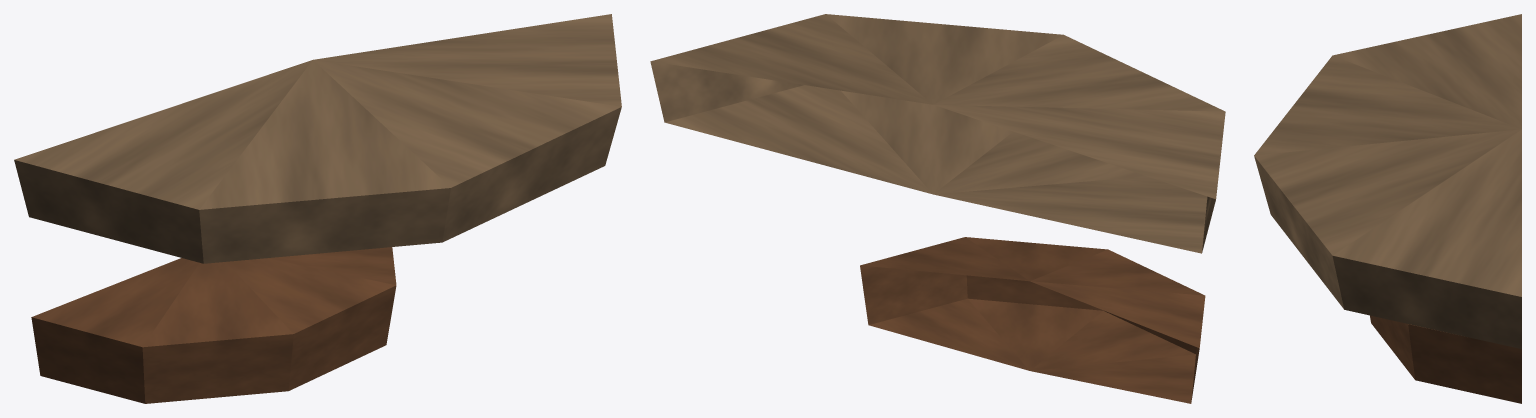
The model's file is Mushroom_Bracket_1_LOD2.gltf.
3 views of the same model, side by side, from view 1: azimuth 30°, elevation 25°; view 2: azimuth 150°, elevation 25°; view 3: azimuth 270°, elevation 25° (orthographic). The views are drawn at different scales.
Visible parts, largest first — view 1: Mushroom_Bracket_1_LOD2; view 2: Mushroom_Bracket_1_LOD2; view 3: Mushroom_Bracket_1_LOD2.
Part boxes in pixels (x1,y1,x2,y2): Mushroom_Bracket_1_LOD2: (14,14,621,403); Mushroom_Bracket_1_LOD2: (650,14,1225,403); Mushroom_Bracket_1_LOD2: (1254,14,1521,403).
Size of the model in its own units: 0.462 by 0.1893 by 0.1848.
2 materials, 2 textured.
